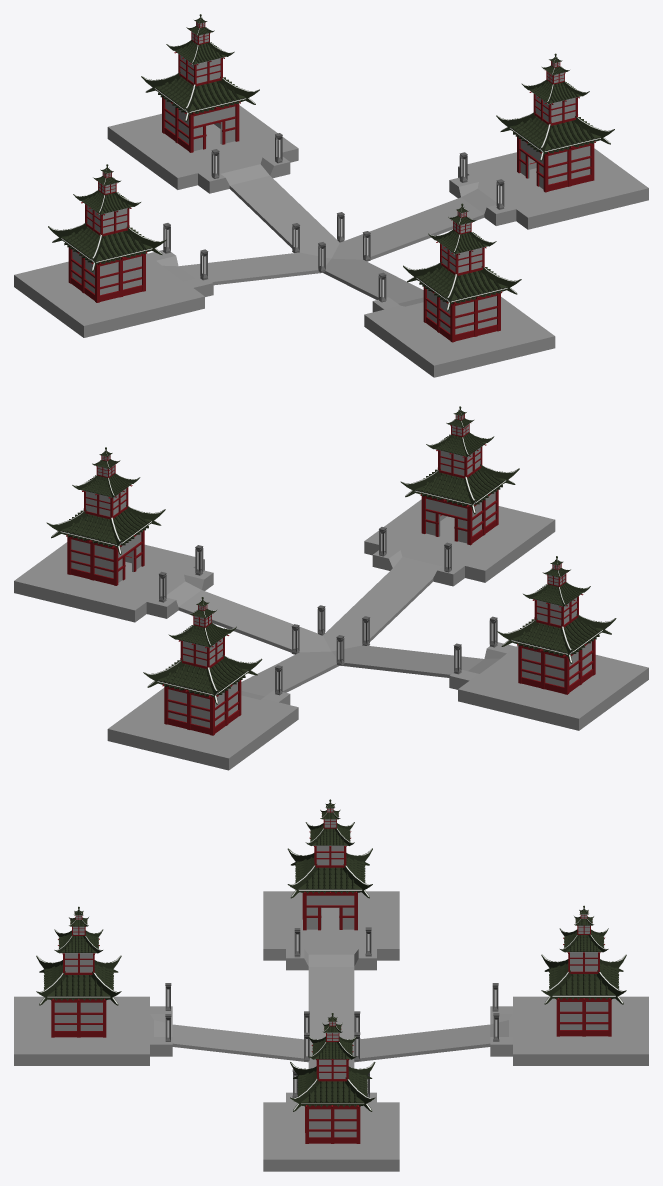
File: SamuraiCutPagodaExampleLevel.fbx
3 renders of one model, top to bottom at view 1: azimuth 30°, elevation 25°; view 2: azimuth 150°, elevation 25°; view 3: azimuth 270°, elevation 25°, orthographic. The views are drawn at different scales.
Visible parts, largest first — view 1: Cube.015; view 2: Cube.015; view 3: Cube.015.
Boxes of the visible parts, bbox=[...] form: Cube.015: bbox=[14, 14, 648, 377]; Cube.015: bbox=[14, 406, 648, 770]; Cube.015: bbox=[14, 799, 648, 1171].
Bounding box in the file's own units: 2800 × 725 × 2800.
